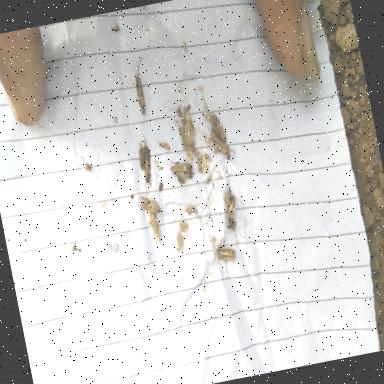pbw: (136, 138, 158, 197), (204, 107, 227, 147), (210, 240, 238, 270), (133, 70, 148, 118), (221, 187, 240, 224), (212, 134, 231, 162), (138, 194, 162, 216), (149, 212, 162, 243), (184, 112, 194, 142), (136, 147, 148, 171), (170, 164, 186, 178), (184, 123, 193, 147), (157, 139, 170, 152)
